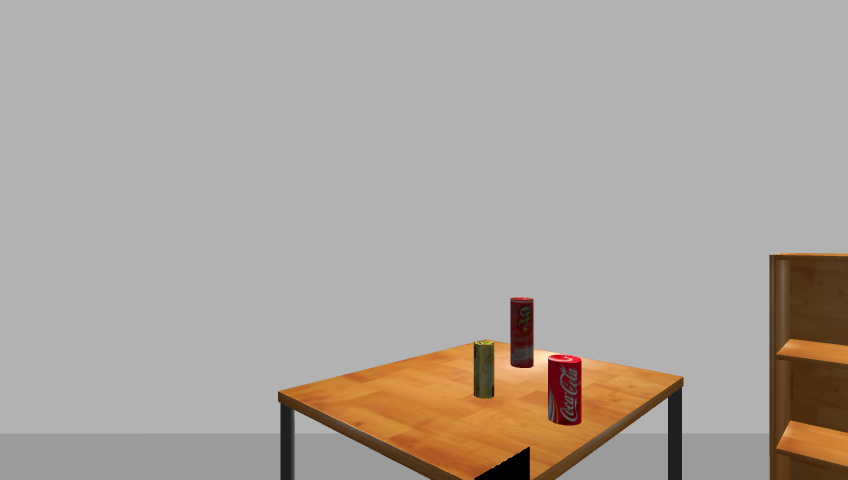aruco marker: (470, 447, 534, 480)
biscuits pack: (473, 340, 496, 400)
bookshelf: (764, 252, 848, 479)
coke can: (546, 354, 583, 426)
dinner table: (270, 342, 692, 479)
pringles can: (507, 296, 537, 370)
